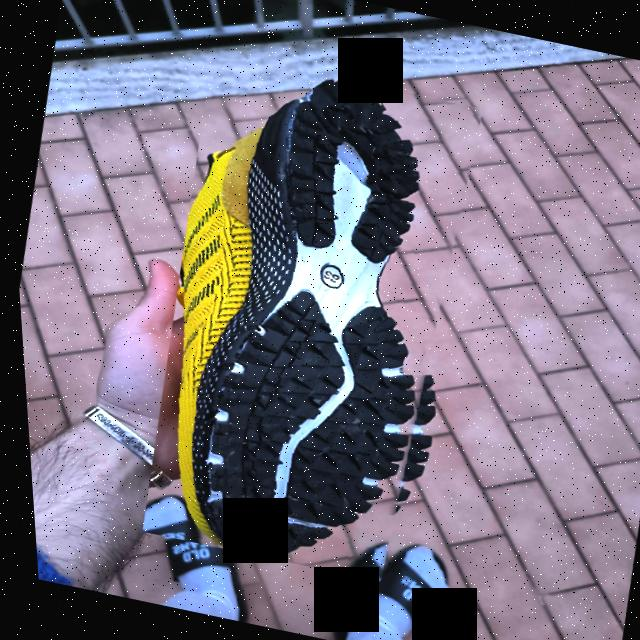shoe: (109, 48, 507, 588)
